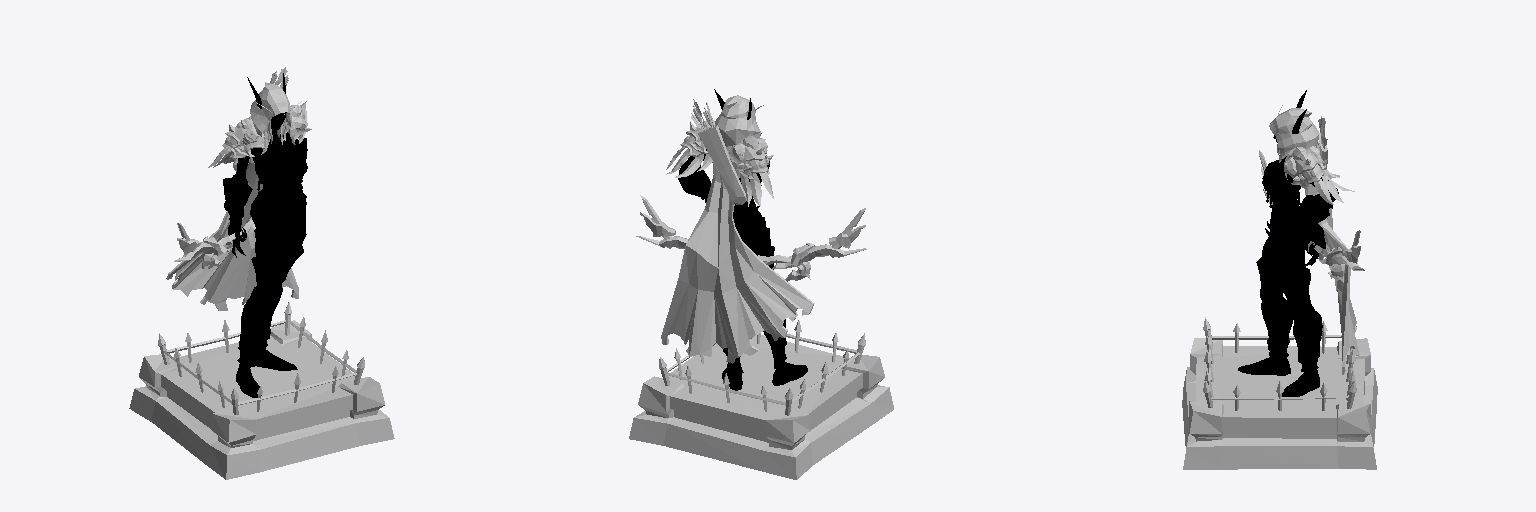
File: Sylvanas Statue.obj
3 renders of one model, left to right at view 1: azimuth 30°, elevation 25°; view 2: azimuth 150°, elevation 25°; view 3: azimuth 270°, elevation 25°, orthographic.
Visible parts, largest first — view 1: world/expansion03/doodads/forsaken/fk_sylvanasstatue.m2_Geoset_0; view 2: world/expansion03/doodads/forsaken/fk_sylvanasstatue.m2_Geoset_0; view 3: world/expansion03/doodads/forsaken/fk_sylvanasstatue.m2_Geoset_0.
Boxes of the visible parts, x1=… form: world/expansion03/doodads/forsaken/fk_sylvanasstatue.m2_Geoset_0: x1=129, y1=67, x2=394, y2=479; world/expansion03/doodads/forsaken/fk_sylvanasstatue.m2_Geoset_0: x1=629, y1=89, x2=893, y2=479; world/expansion03/doodads/forsaken/fk_sylvanasstatue.m2_Geoset_0: x1=1182, y1=90, x2=1377, y2=469.
Bounding box in the file's own units: 6.84 × 12.23 × 6.39.